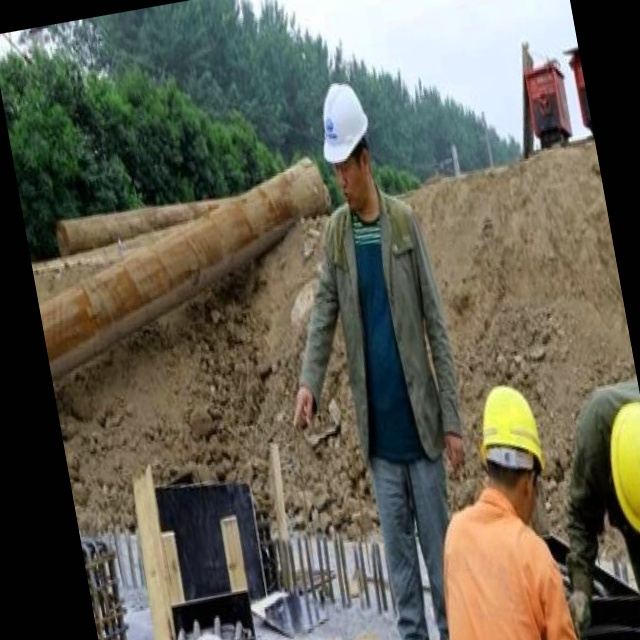Con_Casco: (311, 79, 384, 206)
Sin_Chaleco: (314, 190, 465, 473)
